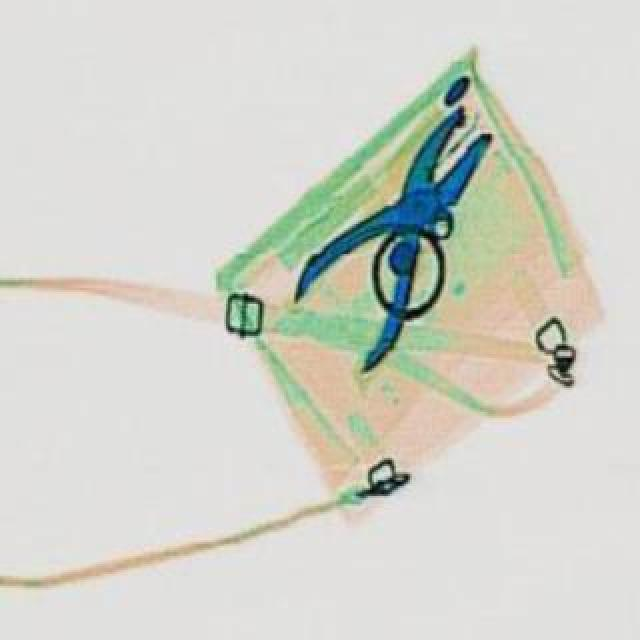wrench: (266, 80, 530, 372)
